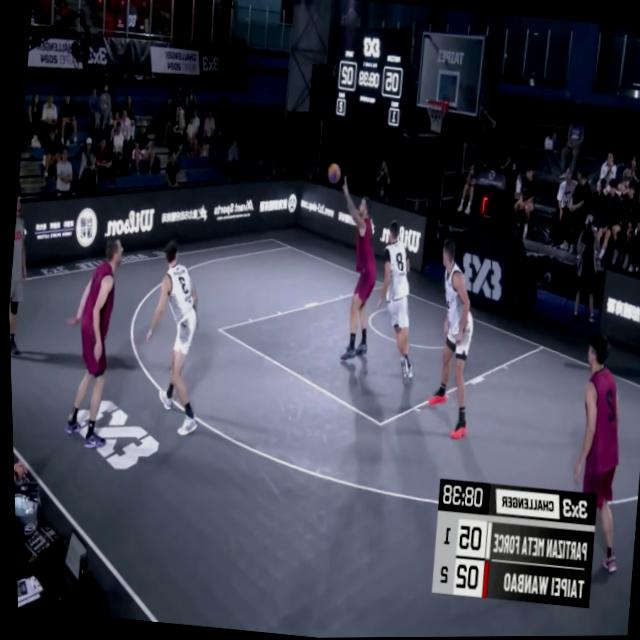ball: (321, 159, 341, 189)
hoop: (419, 92, 450, 137)
player: (549, 330, 637, 583), (52, 232, 129, 454), (132, 239, 210, 439), (419, 238, 482, 441), (357, 203, 426, 387), (325, 176, 387, 366)
